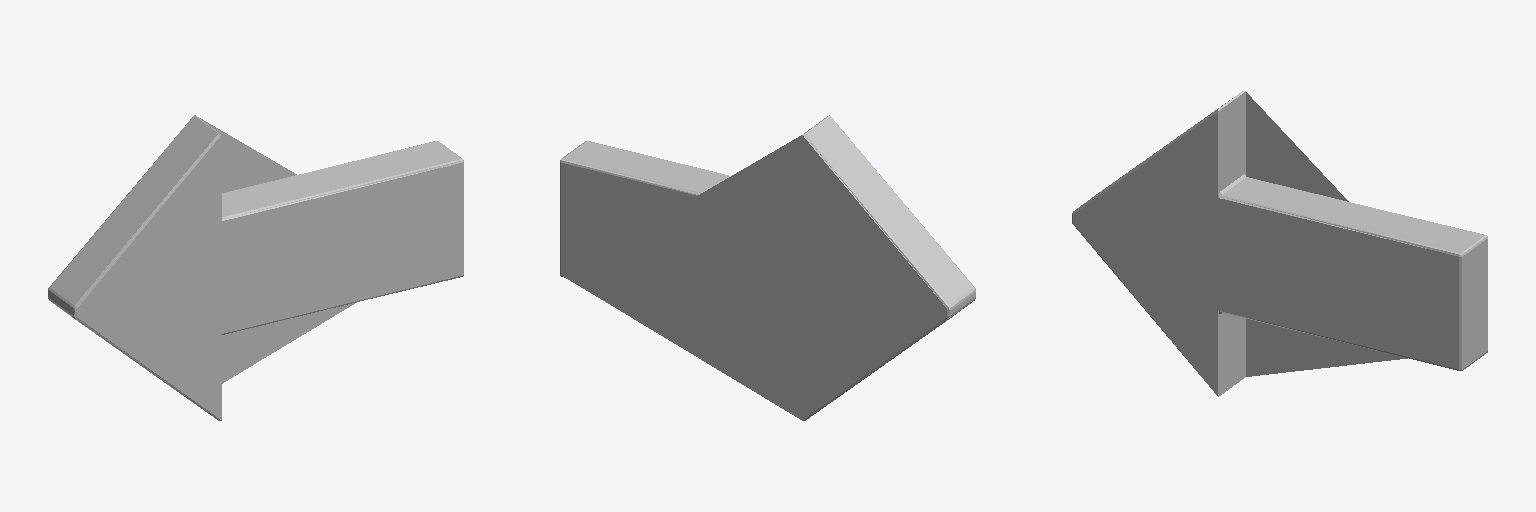
File: leftarrow.obj
3 renders of one model, left to right at view 1: azimuth 30°, elevation 25°; view 2: azimuth 150°, elevation 25°; view 3: azimuth 330°, elevation 25°, orthographic.
Visible parts, largest first — view 1: Box01.001; view 2: Box01.001; view 3: Box01.001.
Part boxes in pixels (x1,y1,x2,y2): Box01.001: (48,115,463,420); Box01.001: (560,115,975,420); Box01.001: (1072,91,1487,396).
Bounding box in the file's own units: 50.71 × 35.61 × 6.16.